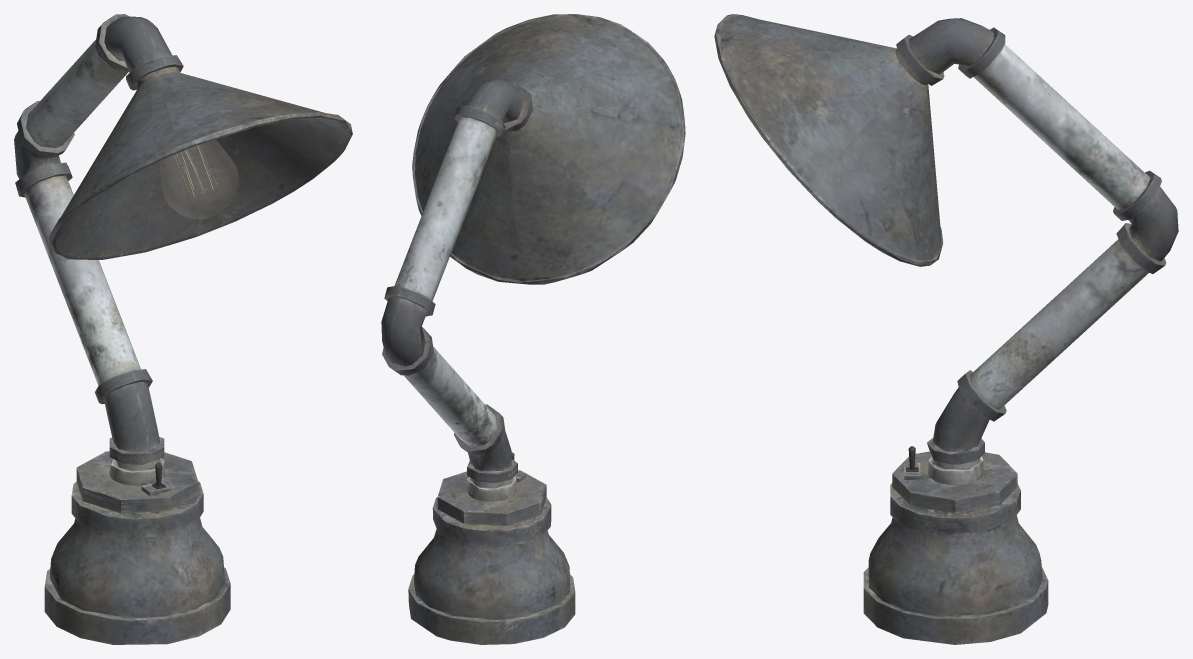
Rendered from industrial_pipe_lamp.glb.
The picture shows the model from 3 angles, left to right: view 1: azimuth 30°, elevation 25°; view 2: azimuth 150°, elevation 25°; view 3: azimuth 270°, elevation 25°; orthographic projection. The views are drawn at different scales.
Parts seen in each view (by area): view 1: industrial_pipe_lamp, industrial_pipe_lamp_bulb; view 2: industrial_pipe_lamp; view 3: industrial_pipe_lamp.
Boxes of the visible parts, <box> form: industrial_pipe_lamp: <box>14,14,352,644</box>; industrial_pipe_lamp_bulb: <box>159,140,238,218</box>; industrial_pipe_lamp: <box>381,14,685,644</box>; industrial_pipe_lamp: <box>714,14,1178,644</box>.
Size of the model in its own units: 0.1826 by 0.3641 by 0.2617.
Materials: 2 (2 with a texture image).
